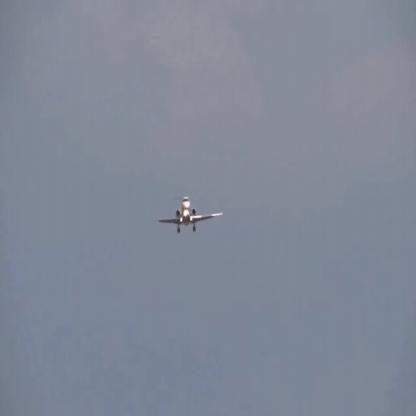plane: (158, 198, 225, 233)
